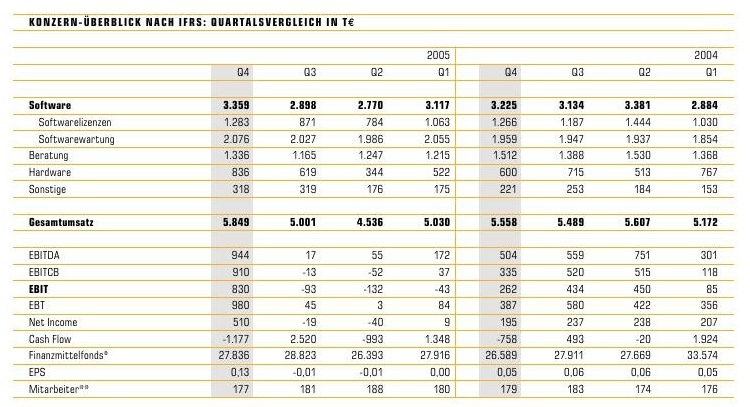table: (0, 0, 750, 407)
